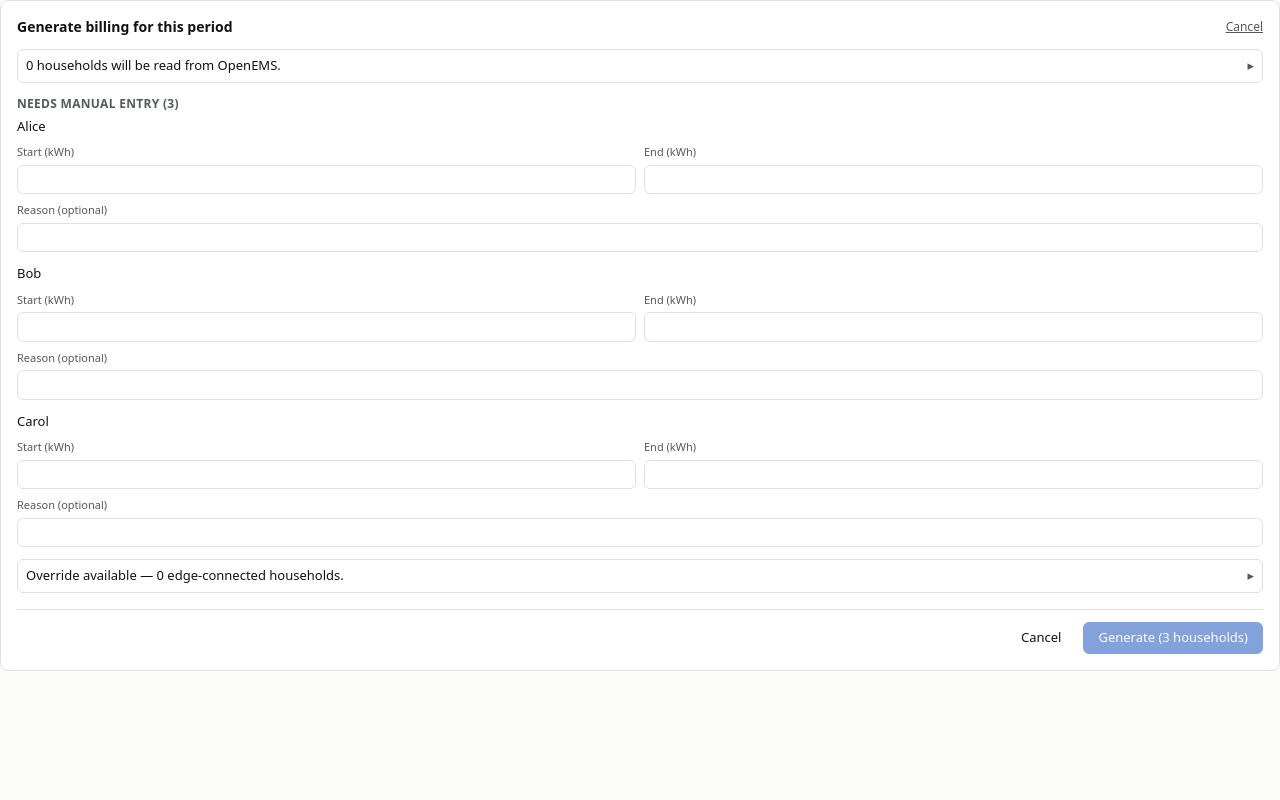
Test: PreflightPanel — partial-failure result view (BC3 polish #182) › per-error-code copy smoke: maps unmetered_no_manual, invalid_manual_reading, currently_manual
In the number field named "Start kWh for Alice": (326, 179) [17,164,636,194], type "100"
In the number field named "End kWh for Alice": (954, 179) [644,164,1263,194], type "150"
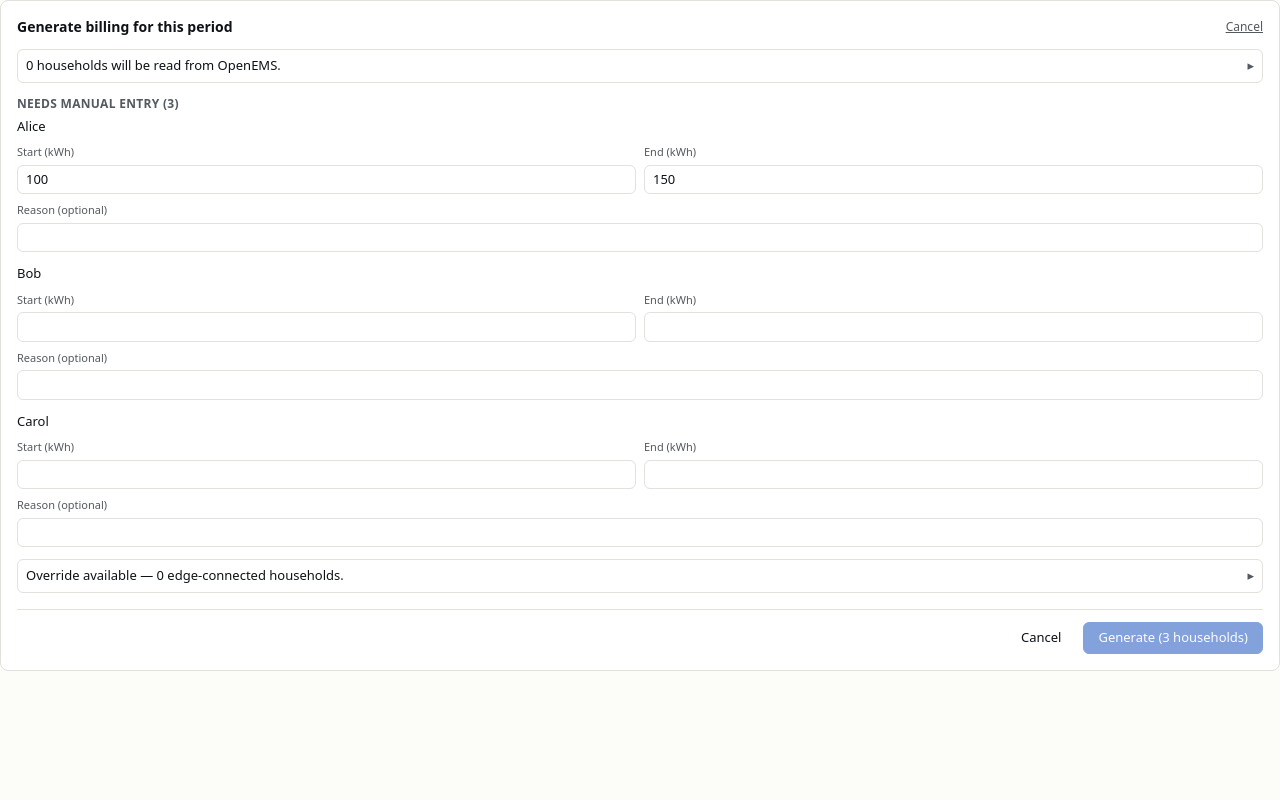
In the number field named "Start kWh for Bob": (326, 327) [17,312,636,342], type "200"
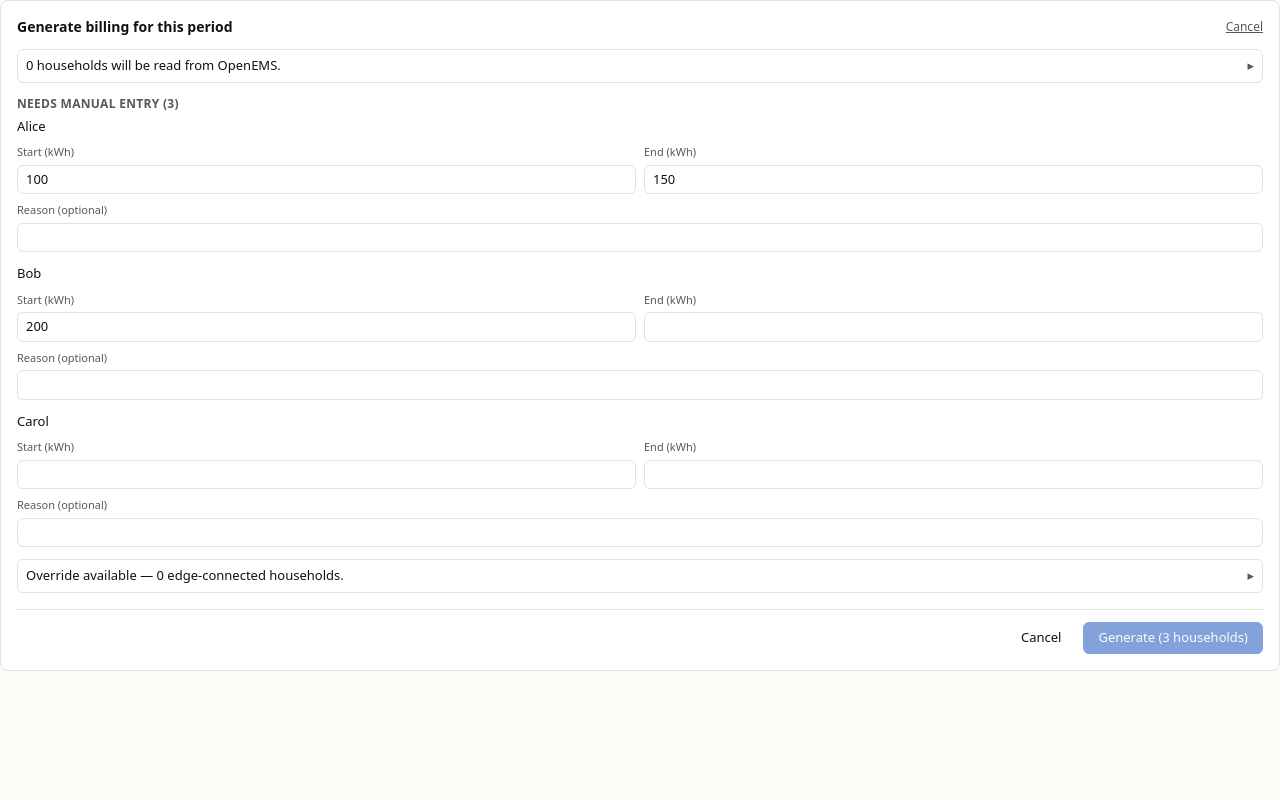
In the number field named "End kWh for Bob": (954, 327) [644,312,1263,342], type "250"
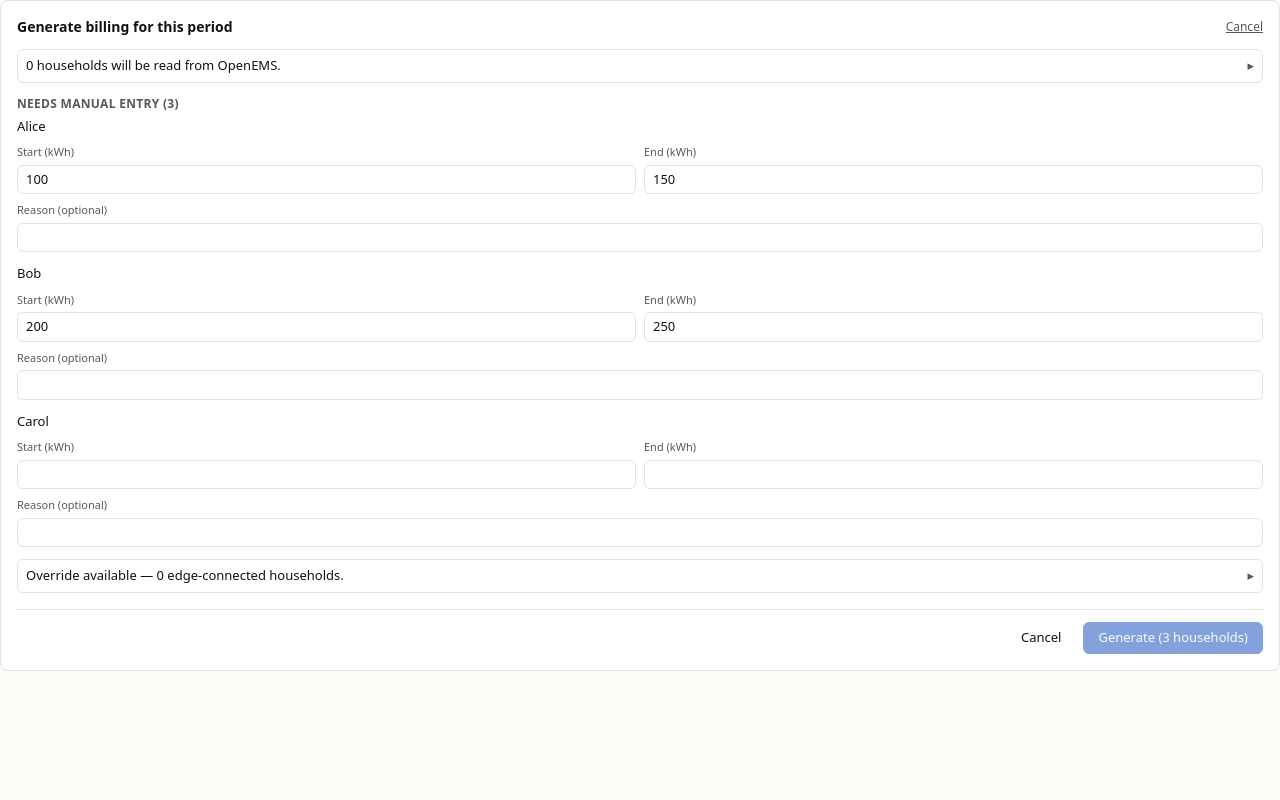
In the number field named "Start kWh for Carol": (326, 474) [17,460,636,489], type "300"
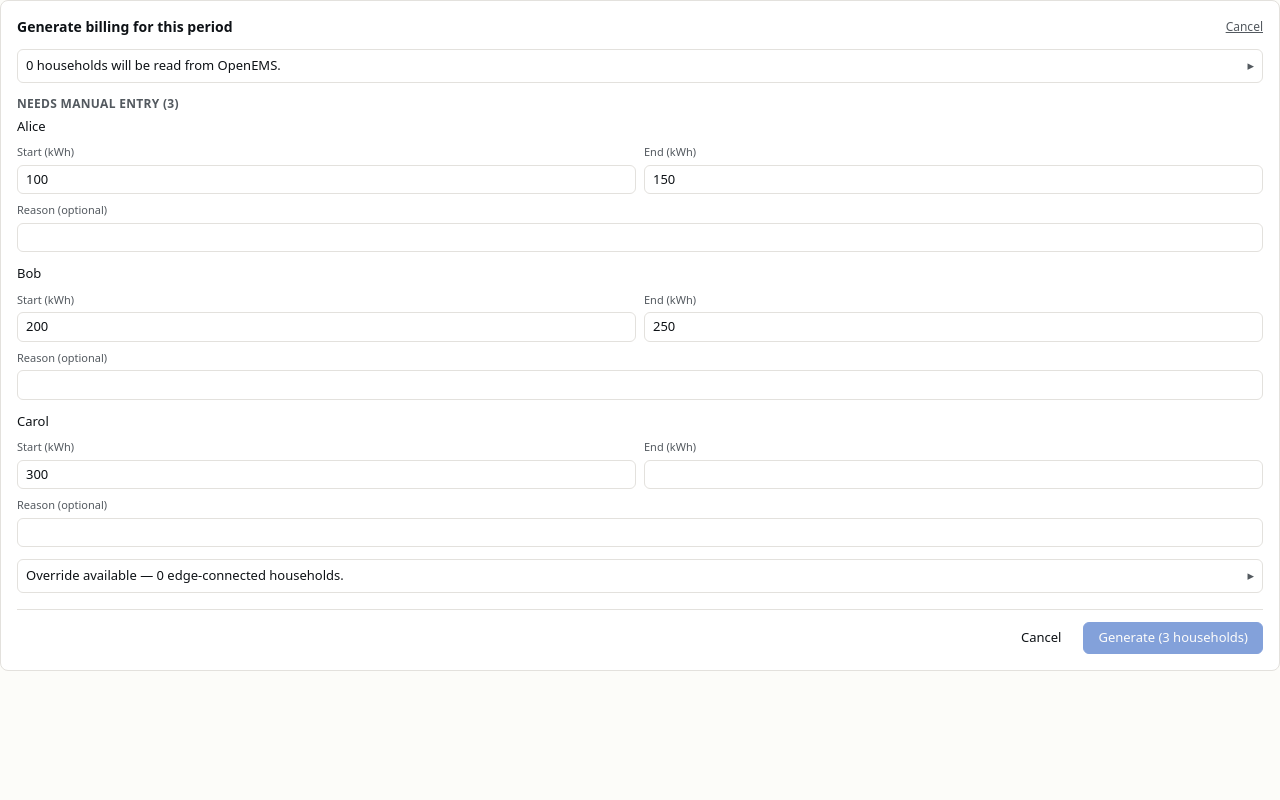
In the number field named "End kWh for Carol": (954, 474) [644,460,1263,489], type "350"
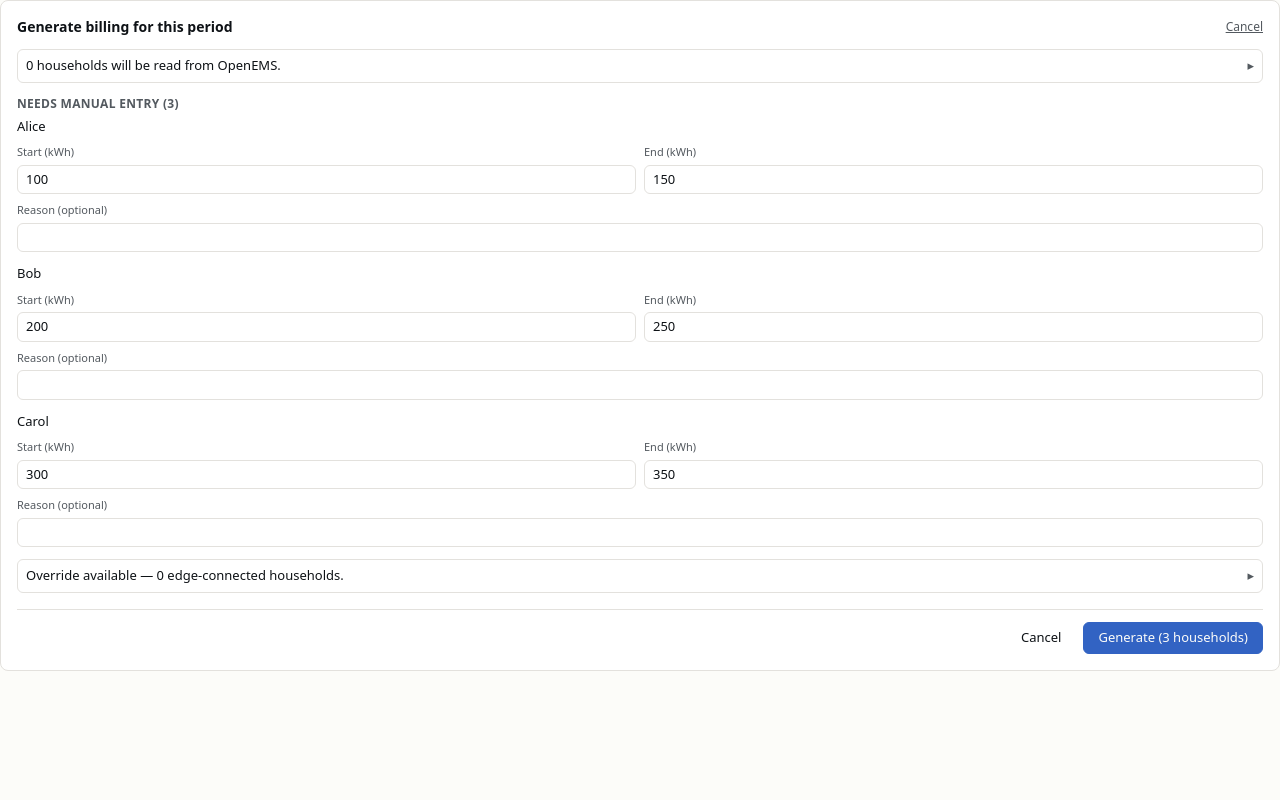
Click the button with test id "preflight-generate-button": (1173, 638) [1083,622,1263,654]
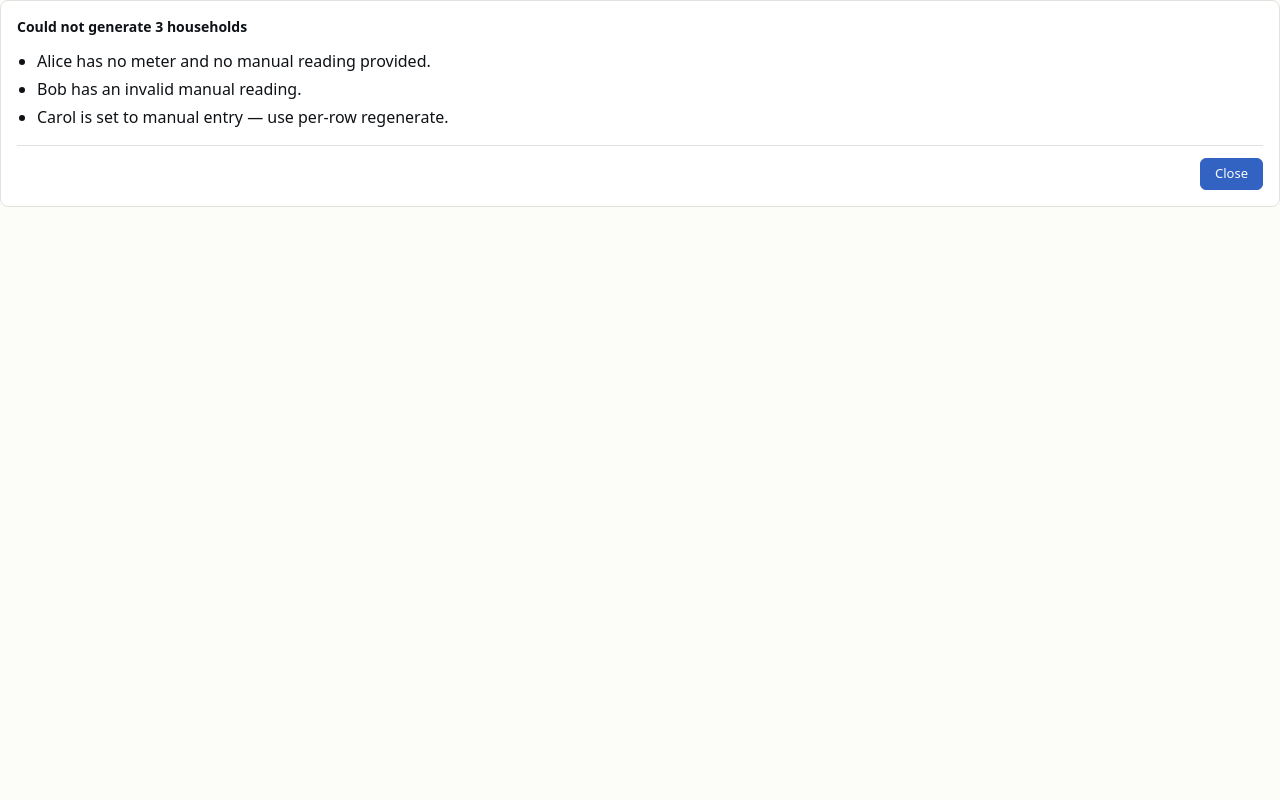
Check: the element with test id "preflight-panel-result" is shown, box [0,0,1279,207]
Check: the list with test id "preflight-result-failure-list" shows "Alice has no meter and no manual reading provided.", box [37,50,431,72]
Check: the list with test id "preflight-result-failure-list" shows "Bob has an invalid manual reading.", box [37,78,301,100]
